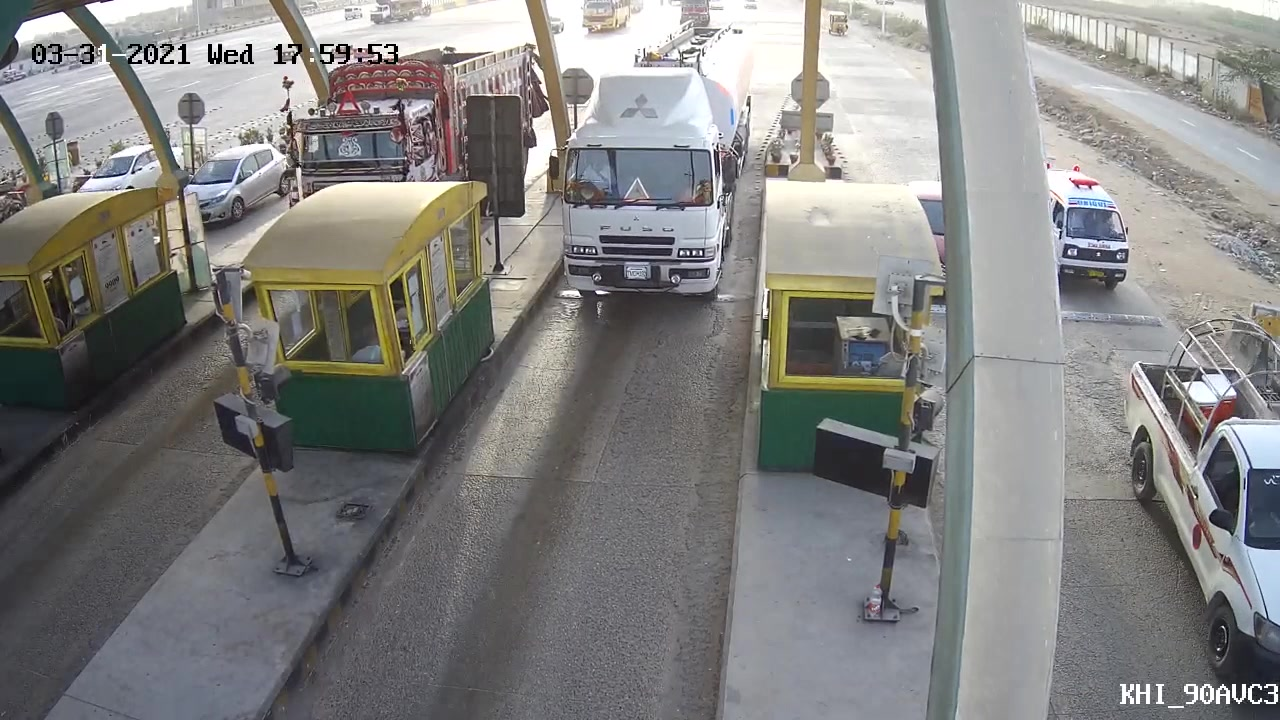F6: (550, 14, 759, 309)
